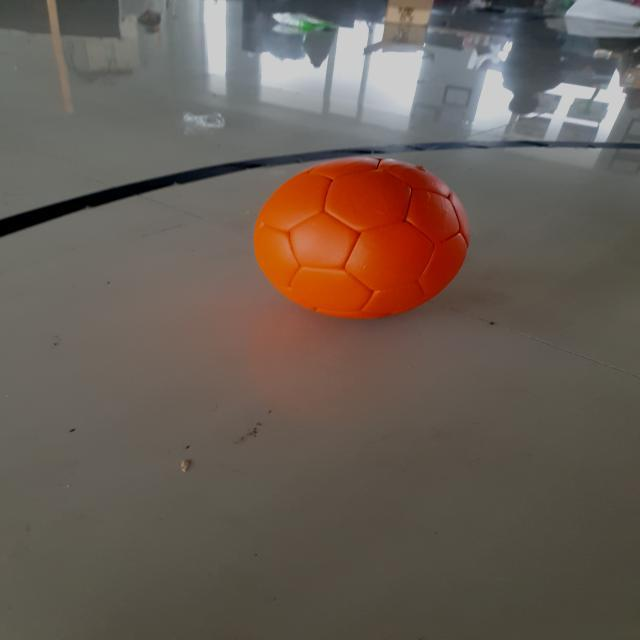bola: (236, 136, 484, 334)
